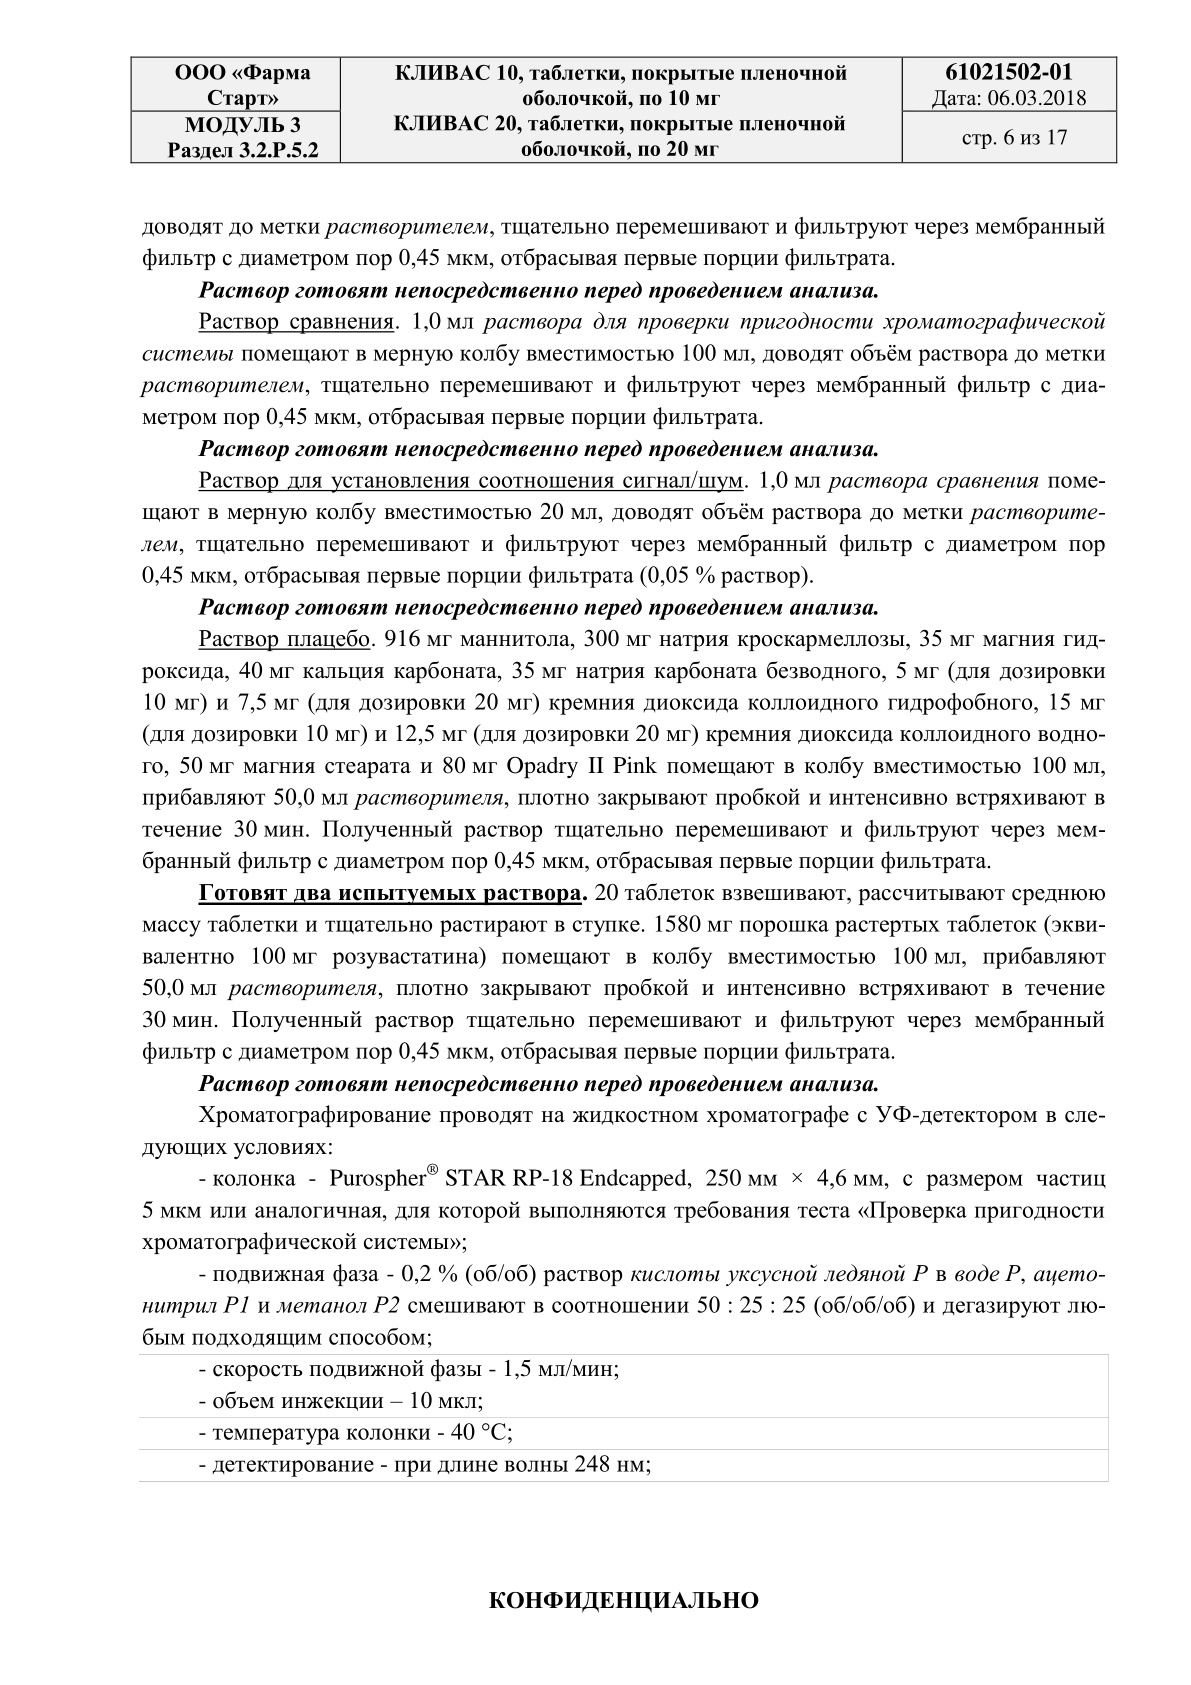merged_cells: (129, 54, 1119, 165)
